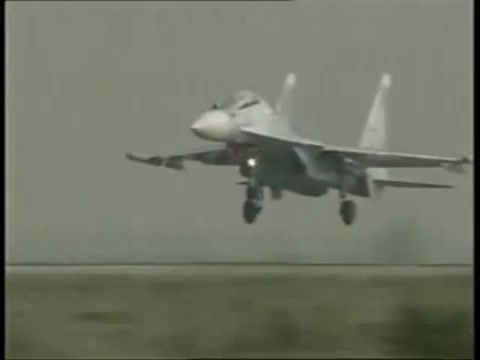aeroplane: (126, 71, 474, 227)
